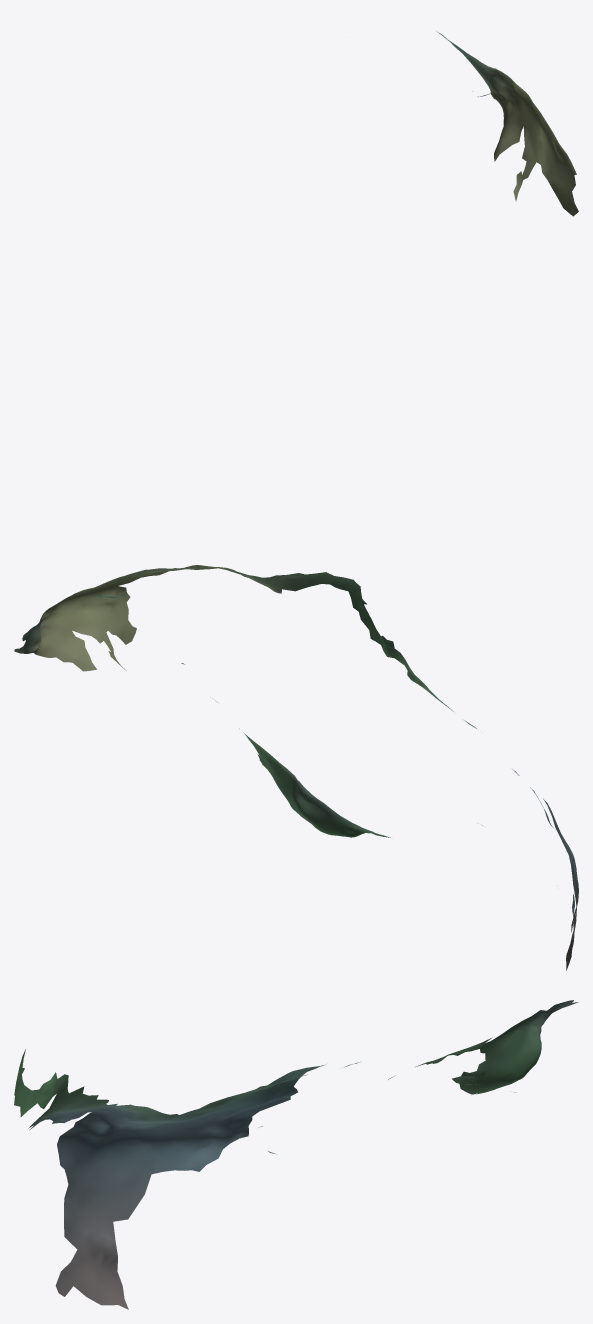
Rendered from LODS_Cloud_global_25.glb.
3 renders of one model, top to bottom at view 1: azimuth 30°, elevation 25°; view 2: azimuth 150°, elevation 25°; view 3: azimuth 270°, elevation 25°, orthographic. The views are drawn at different scales.
Parts seen in each view (by area): view 1: LOD0; view 2: LOD0; view 3: LOD0.
Boxes of the visible parts, x1,y1,x2,y2 form: LOD0: [436, 31, 578, 216]; LOD0: [14, 565, 578, 970]; LOD0: [14, 1000, 578, 1309].
Size of what is drawn, in the model's own units: 0.4736 by 0.2978 by 0.3205.
